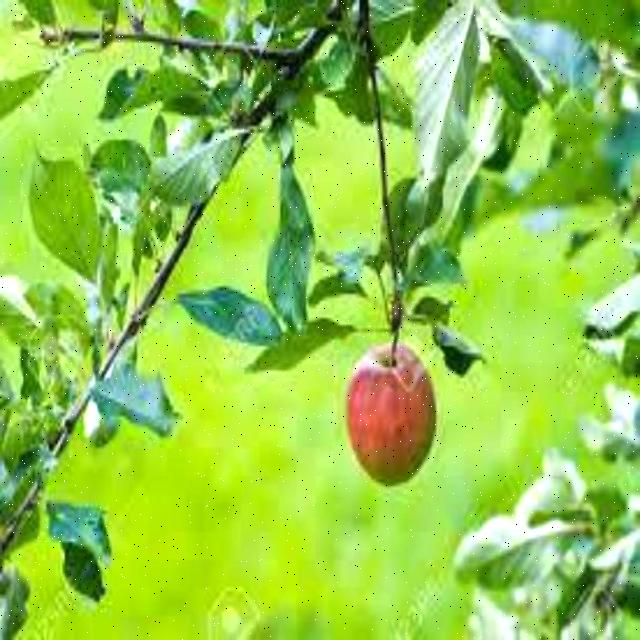HEALTHY: (338, 328, 451, 500)
